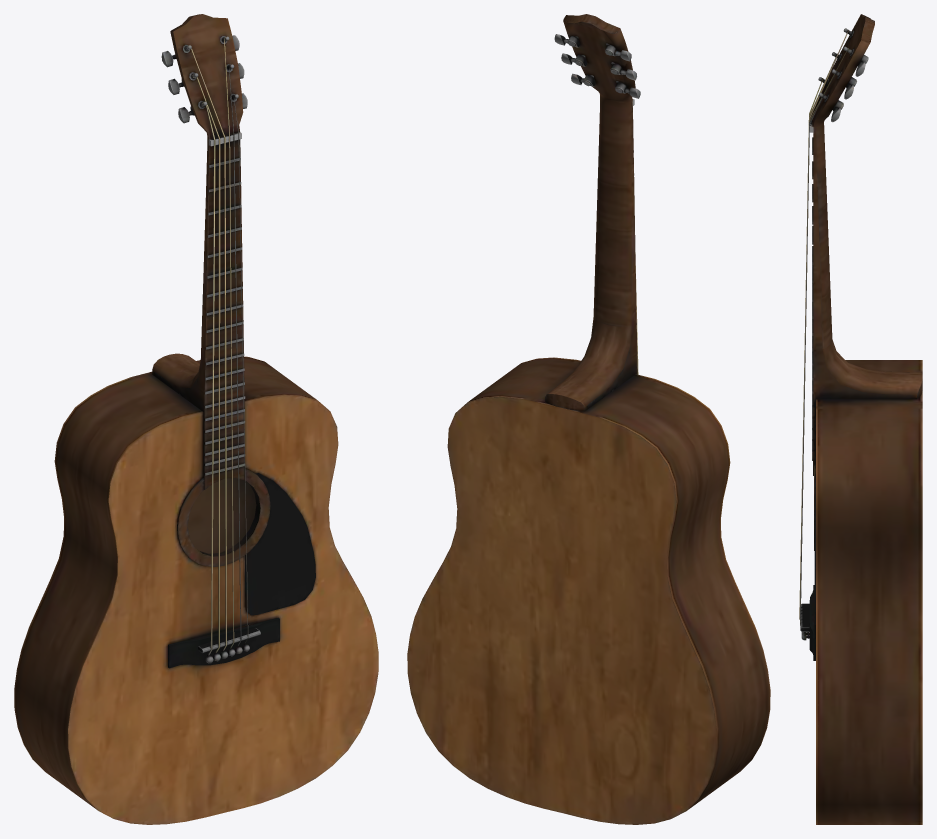
Rendered from guitar_Model.gltf.
The picture shows the model from 3 angles, left to right: view 1: azimuth 30°, elevation 25°; view 2: azimuth 150°, elevation 25°; view 3: azimuth 270°, elevation 25°; orthographic projection.
Visible parts, largest first — view 1: SM_Acoustic_Guitar; view 2: SM_Acoustic_Guitar; view 3: SM_Acoustic_Guitar.
Part boxes in pixels (x1,y1,x2,y2): SM_Acoustic_Guitar: [14, 14, 378, 824]; SM_Acoustic_Guitar: [407, 14, 770, 824]; SM_Acoustic_Guitar: [799, 14, 922, 824].
Size of the model in its own units: 78.45 by 188 by 27.23.
1 material, 1 textured.
